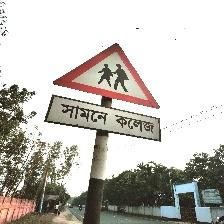College-in-front: (35, 31, 182, 156)
